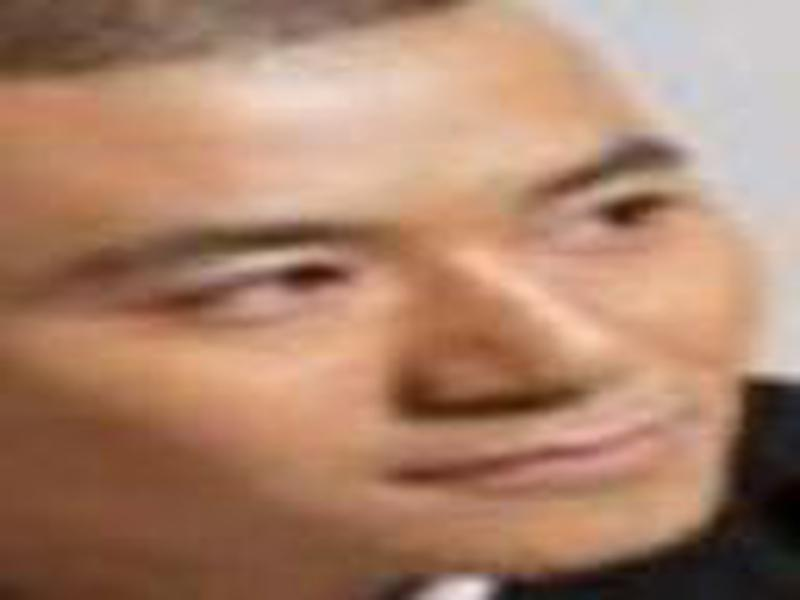without_mask: (4, 61, 757, 565)
